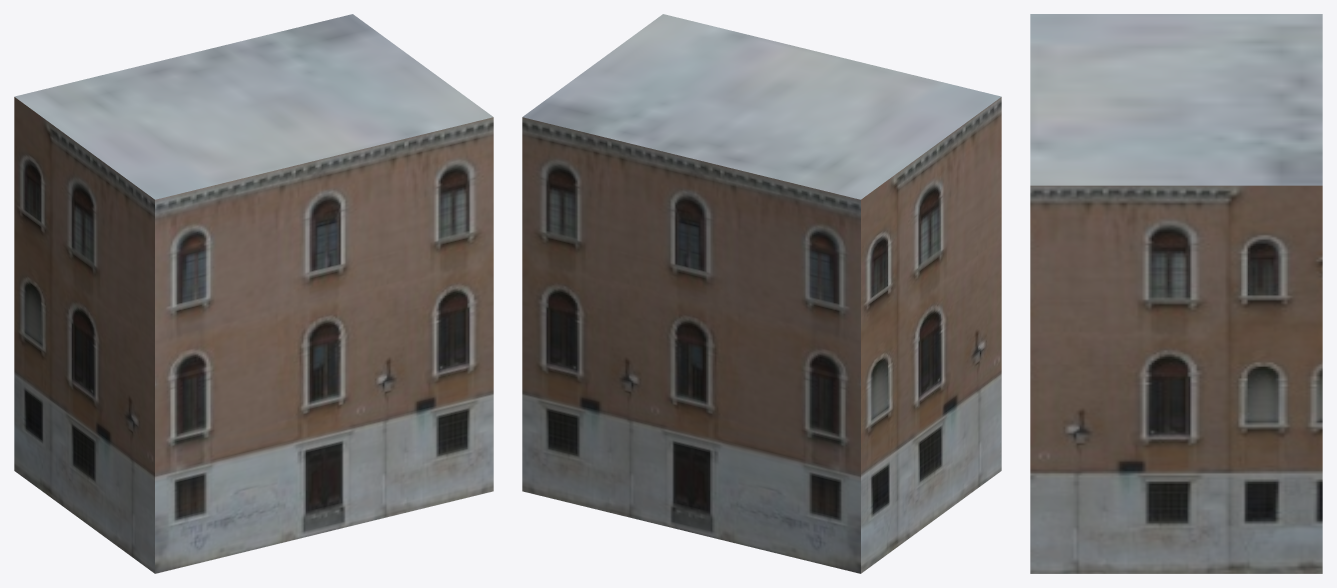
The model's file is building.house_04.glb.
3 renders of one model, left to right at view 1: azimuth 30°, elevation 25°; view 2: azimuth 150°, elevation 25°; view 3: azimuth 270°, elevation 25°, orthographic. The views are drawn at different scales.
Parts seen in each view (by area): view 1: Cube010; view 2: Cube010; view 3: Cube010.
Boxes of the visible parts, x1,y1,x2,y2 form: Cube010: (14, 14, 493, 573); Cube010: (522, 14, 1001, 573); Cube010: (1030, 14, 1322, 573).
Size of the model in its own units: 6.49 by 6.85 by 4.68.
1 material, 1 textured.
